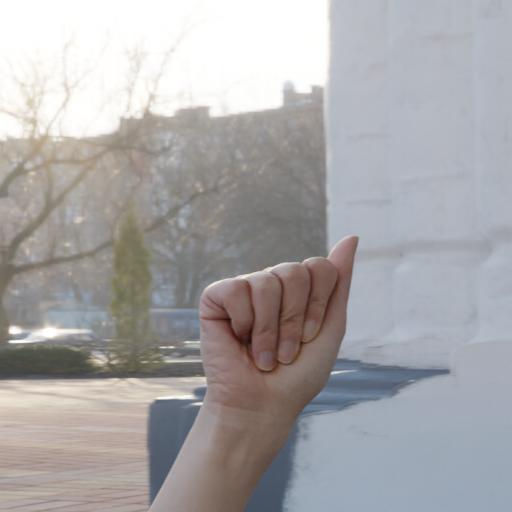A: (178, 213, 384, 429)
